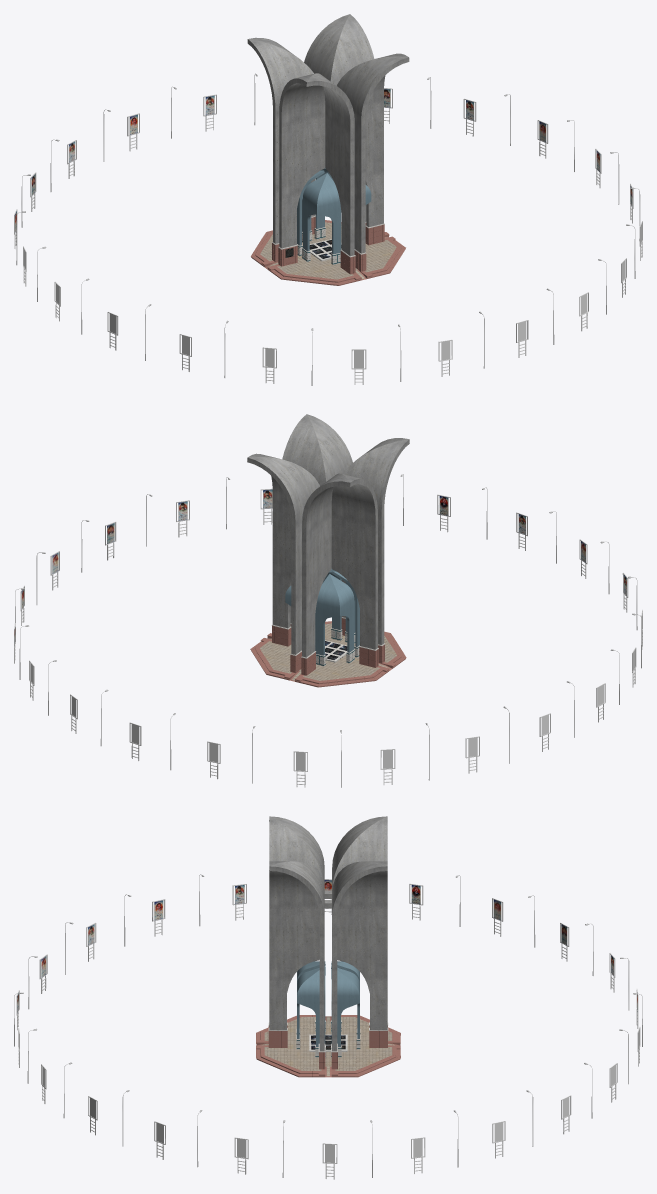
The model's file is Mazar.gltf.
The picture shows the model from 3 angles, top to bottom: view 1: azimuth 30°, elevation 25°; view 2: azimuth 150°, elevation 25°; view 3: azimuth 270°, elevation 25°; orthographic projection.
Visible parts, largest first — view 1: Big_Building, Floor_1, Banner_Frame, Small_Building, Banner, Lamp, Big_Plaster_Bottom_1, Big_Plaster_Bottom_2; view 2: Big_Building, Floor_1, Banner_Frame, Banner, Small_Building, Lamp, Big_Plaster_Bottom_1, Big_Plaster_Bottom_2; view 3: Big_Building, Floor_1, Banner_Frame, Small_Building, Banner, Lamp, Big_Plaster_Bottom_2, Floor_2.
Boxes of the visible parts, bbox=[...] form: Big_Building: bbox=[247, 14, 409, 256]; Floor_1: bbox=[251, 220, 405, 285]; Banner_Frame: bbox=[14, 88, 642, 384]; Small_Building: bbox=[297, 168, 371, 254]; Banner: bbox=[15, 89, 642, 368]; Lamp: bbox=[16, 73, 640, 385]; Big_Plaster_Bottom_1: bbox=[272, 222, 384, 266]; Big_Plaster_Bottom_2: bbox=[311, 216, 366, 274]; Big_Building: bbox=[247, 414, 409, 657]; Floor_1: bbox=[251, 621, 405, 687]; Banner_Frame: bbox=[14, 488, 642, 787]; Banner: bbox=[14, 489, 635, 771]; Small_Building: bbox=[285, 569, 359, 655]; Lamp: bbox=[15, 474, 641, 787]; Big_Plaster_Bottom_1: bbox=[271, 623, 384, 667]; Big_Plaster_Bottom_2: bbox=[290, 617, 345, 675]; Big_Building: bbox=[269, 816, 387, 1051]; Floor_1: bbox=[256, 1015, 400, 1077]; Banner_Frame: bbox=[16, 879, 640, 1179]; Small_Building: bbox=[297, 961, 359, 1046]; Banner: bbox=[17, 880, 639, 1162]; Lamp: bbox=[14, 874, 642, 1177]; Big_Plaster_Bottom_2: bbox=[268, 1022, 388, 1047]; Floor_2: bbox=[256, 1015, 400, 1076].
Bounding box in the file's own units: 100 × 36.1 × 100.
Materials: 15 (9 with a texture image).
